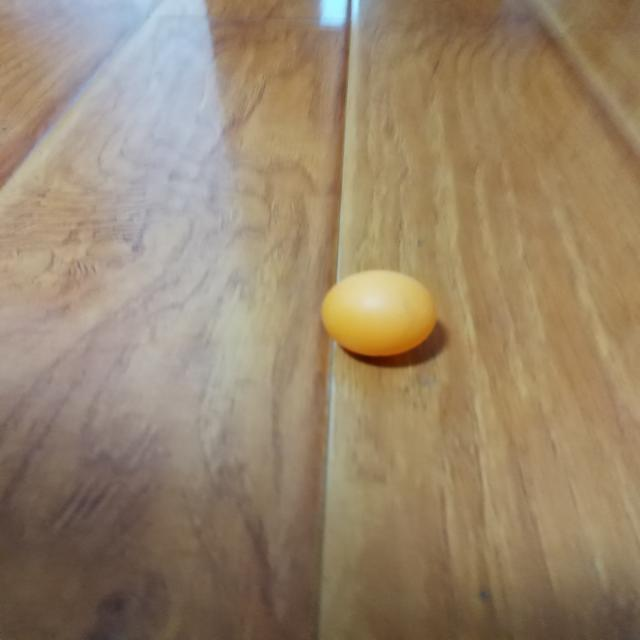oball: (322, 270, 438, 356)
